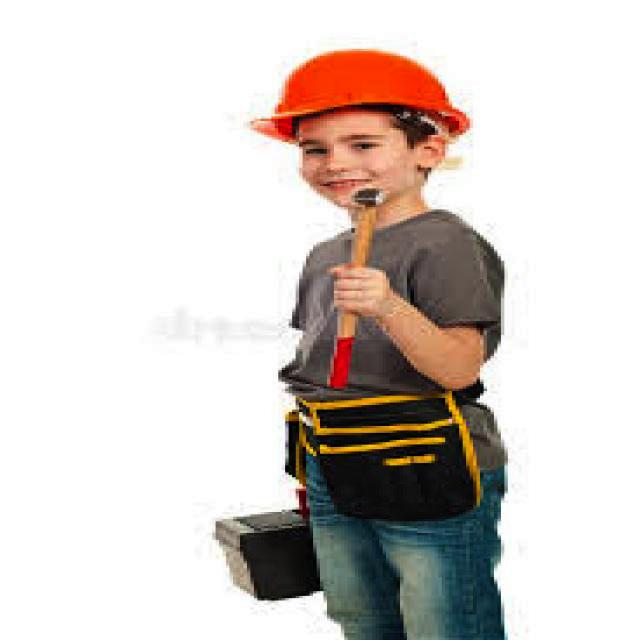hammer: (308, 176, 395, 402)
